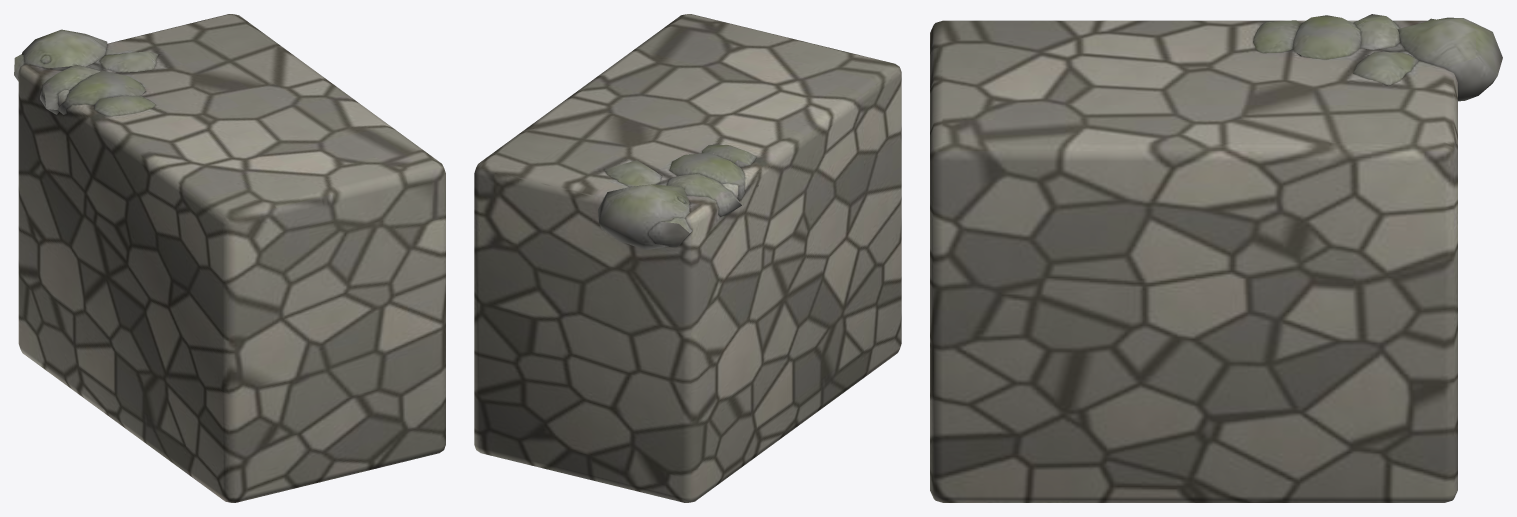
The model's file is home_ext_chimney_broken.glb.
3 renders of one model, left to right at view 1: azimuth 30°, elevation 25°; view 2: azimuth 150°, elevation 25°; view 3: azimuth 270°, elevation 25°, orthographic. The views are drawn at different scales.
Parts seen in each view (by area): view 1: home_ext_chimney_broken; view 2: home_ext_chimney_broken; view 3: home_ext_chimney_broken.
Part boxes in pixels (x1=…): home_ext_chimney_broken: x1=14, y1=14, x2=445, y2=502; home_ext_chimney_broken: x1=474, y1=14, x2=901, y2=502; home_ext_chimney_broken: x1=930, y1=14, x2=1502, y2=502.
Bounding box in the file's own units: 0.749 × 0.9561 × 1.3.
Materials: 1 (1 with a texture image).
